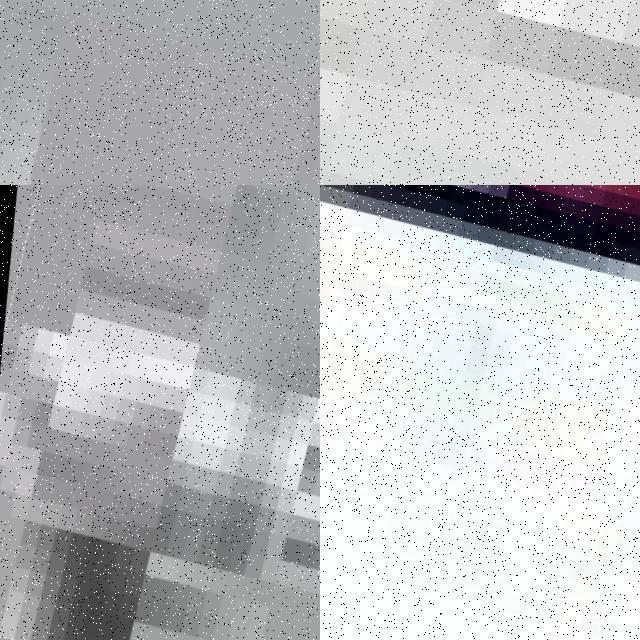drone: (0, 185, 320, 640), (320, 185, 640, 640), (0, 0, 320, 185), (320, 0, 640, 185)
